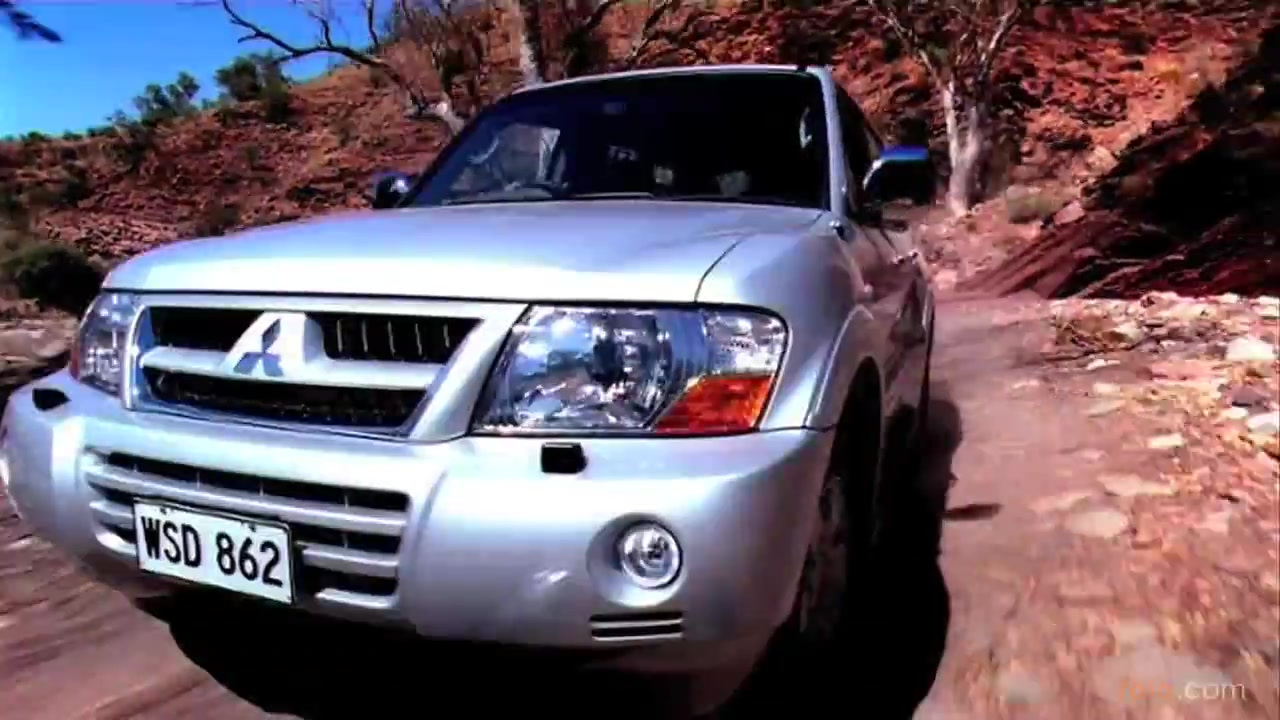car: (1, 65, 940, 720)
